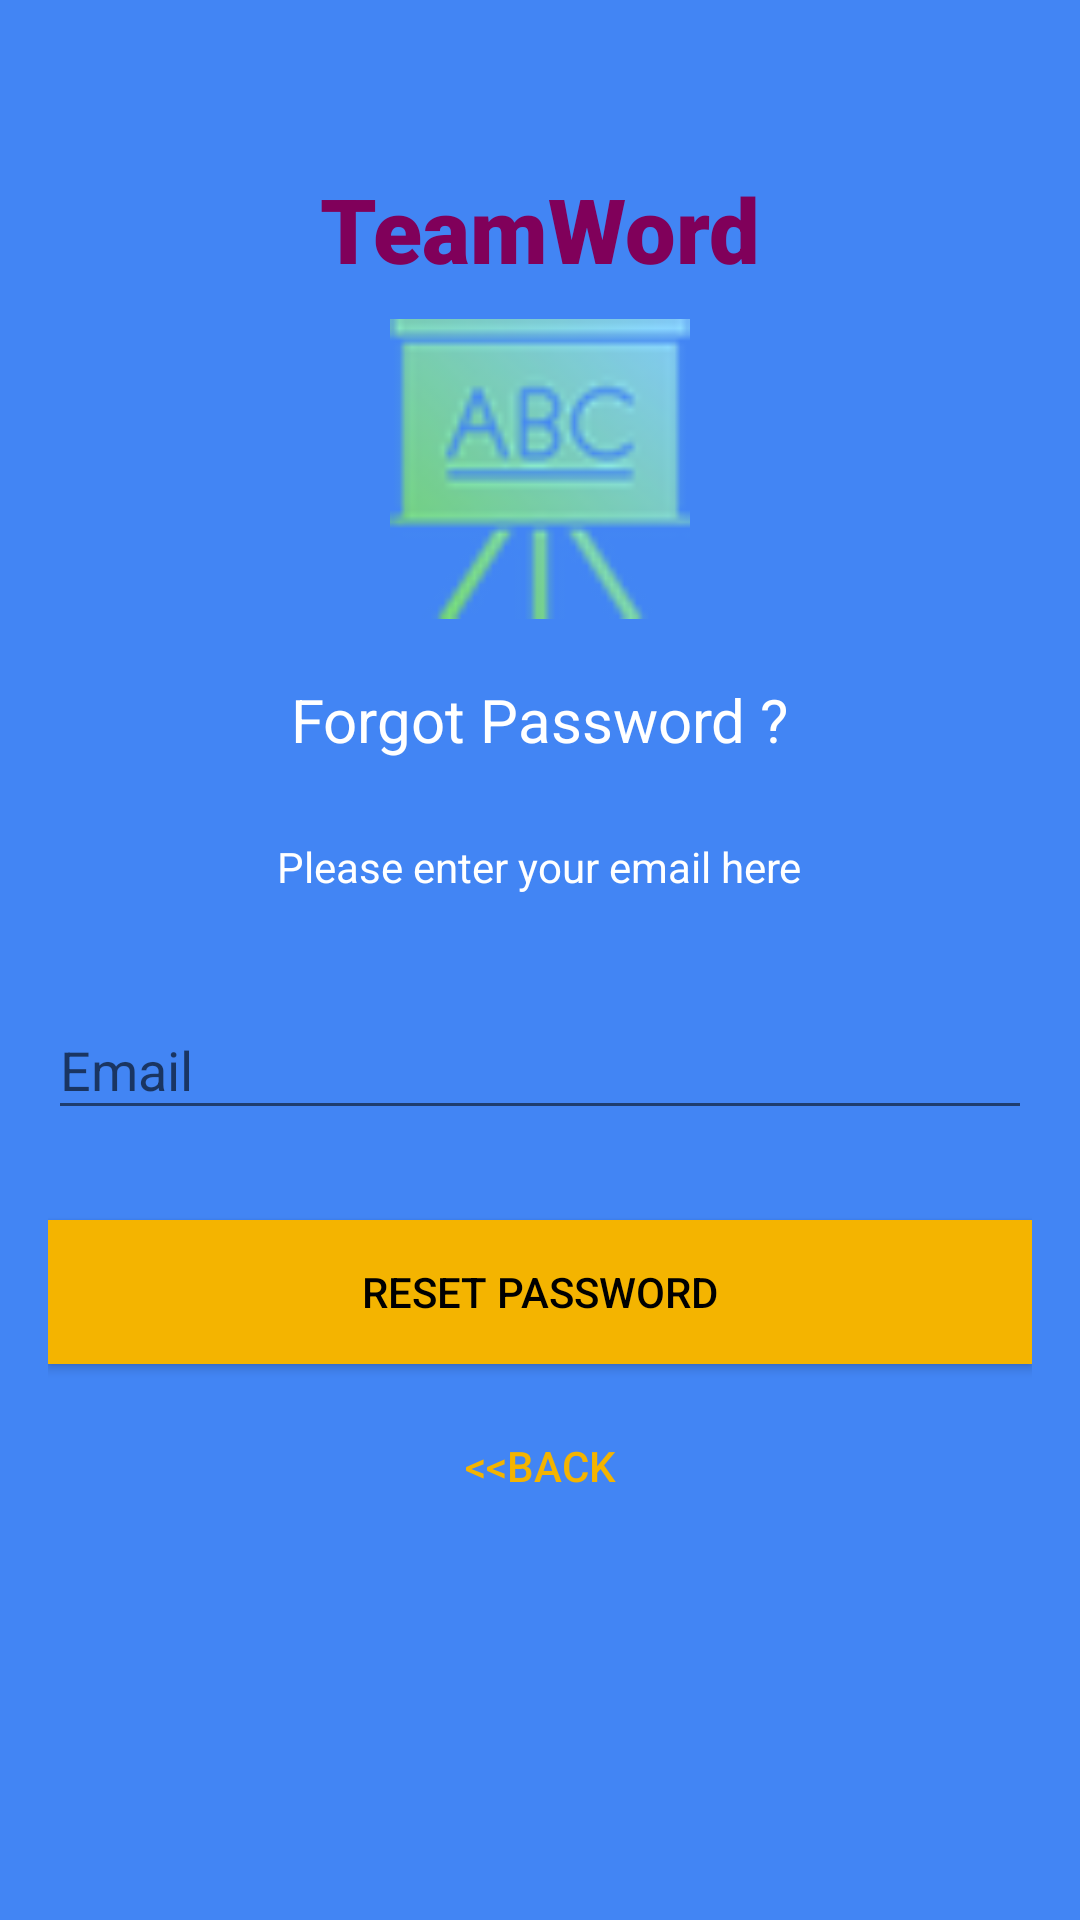

Icons on this 1080*1920 Android screen, each with its box as bbox(x1, y1, x2, y2):
board: bbox(390, 319, 690, 619)
